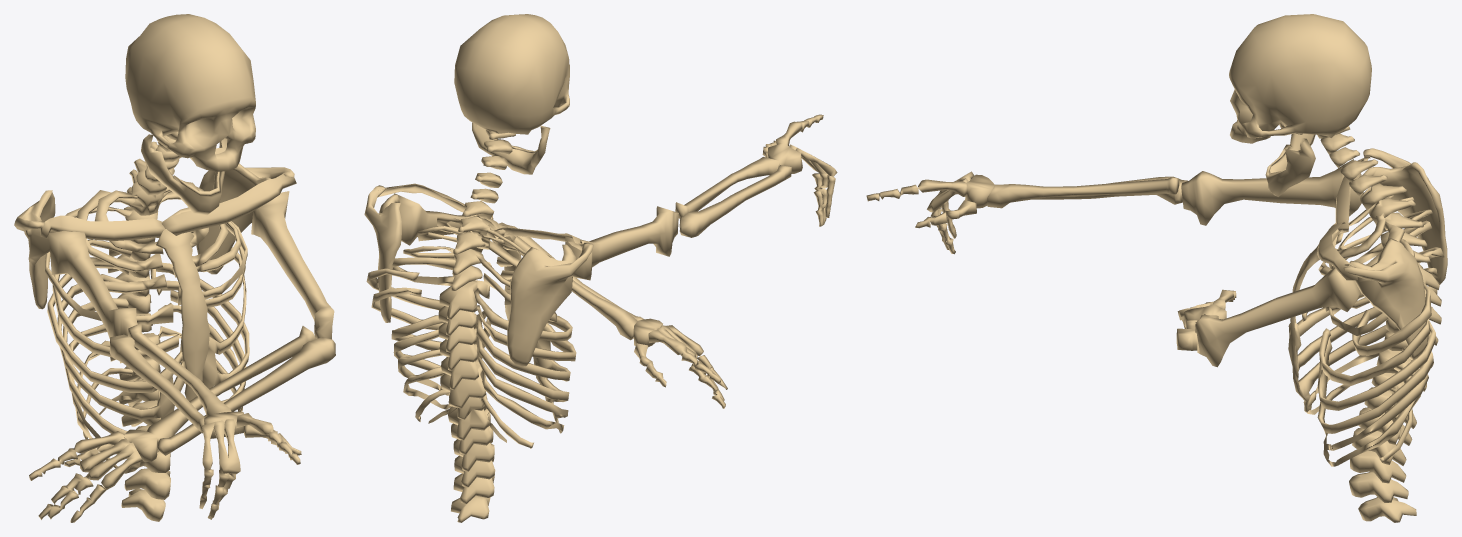
The model's file is Skelly.fbx.
3 renders of one model, left to right at view 1: azimuth 30°, elevation 25°; view 2: azimuth 150°, elevation 25°; view 3: azimuth 270°, elevation 25°, orthographic. The views are drawn at different scales.
Visible parts, largest first — view 1: Skeleton; view 2: Skeleton; view 3: Skeleton.
Boxes of the visible parts, box(x1,y1,x2,y2) form: Skeleton: box(14, 14, 335, 522); Skeleton: box(364, 14, 837, 522); Skeleton: box(866, 14, 1447, 522).
Bounding box in the file's own units: 254 × 388 × 409.
